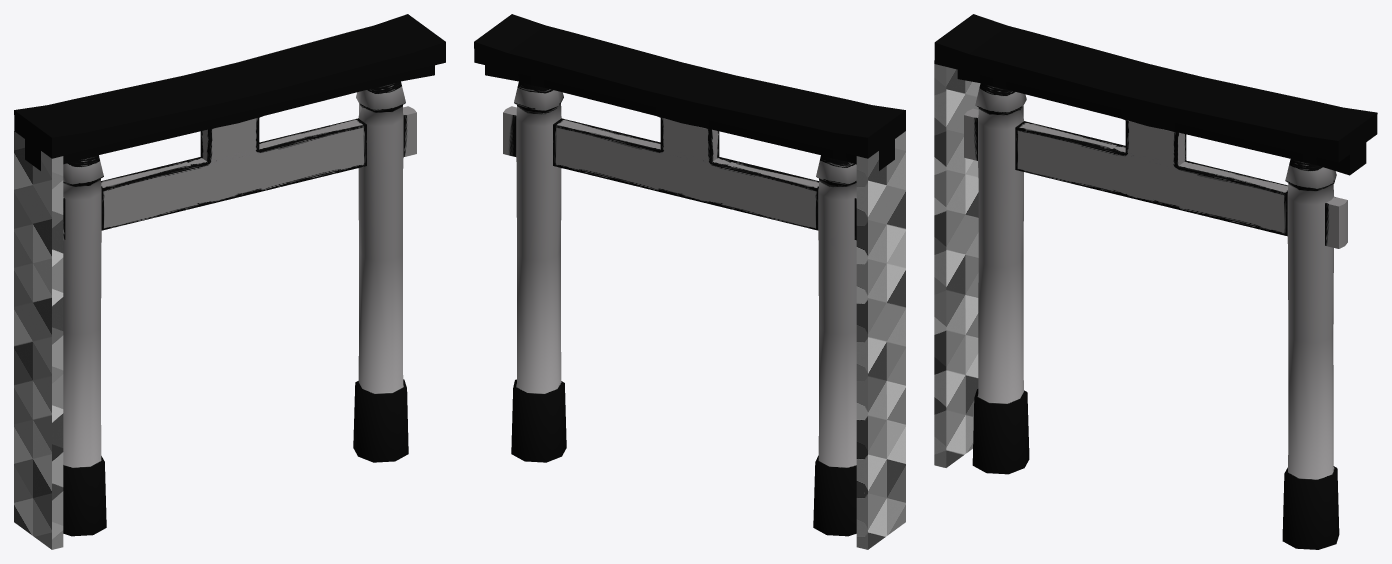
File: DoorTori.FBX
3 renders of one model, left to right at view 1: azimuth 30°, elevation 25°; view 2: azimuth 150°, elevation 25°; view 3: azimuth 330°, elevation 25°, orthographic. The views are drawn at different scales.
Visible parts, largest first — view 1: DoorTori, WallToriRightNoLine, WallToriRight; view 2: DoorTori, WallToriRightNoLine, WallToriRight; view 3: DoorTori, WallToriRight, WallToriRightNoLine.
Part boxes in pixels (x1,y1,x2,y2): DoorTori: (14, 14, 445, 536); WallToriRightNoLine: (14, 131, 55, 549); WallToriRight: (55, 156, 63, 548); DoorTori: (474, 14, 905, 536); WallToriRightNoLine: (864, 131, 905, 549); WallToriRight: (856, 156, 864, 548); DoorTori: (934, 14, 1377, 549); WallToriRight: (937, 65, 980, 467); WallToriRightNoLine: (934, 64, 937, 465).
Bounding box in the file's own units: 236 × 236 × 39.43.
